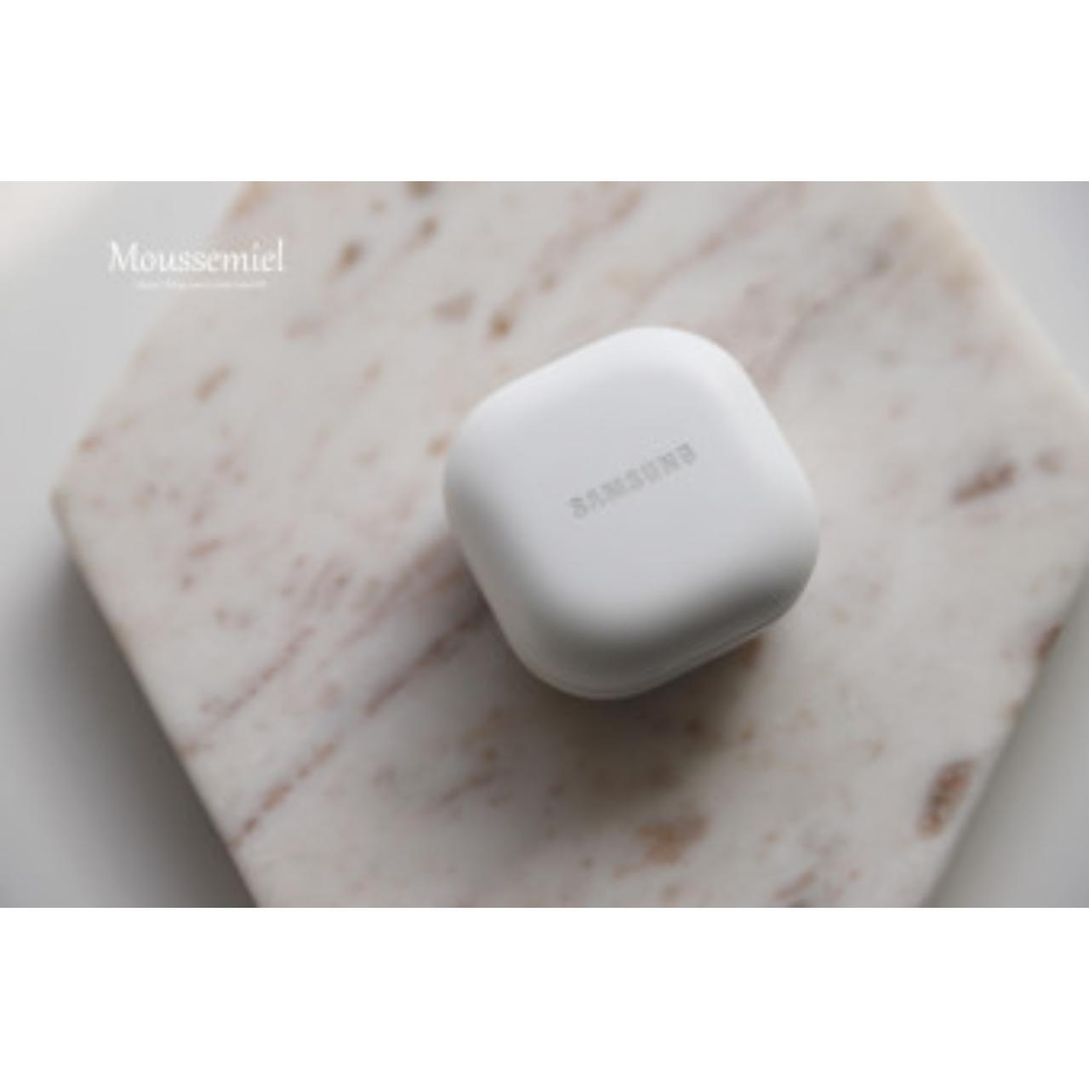Buds: (439, 320, 827, 706)
